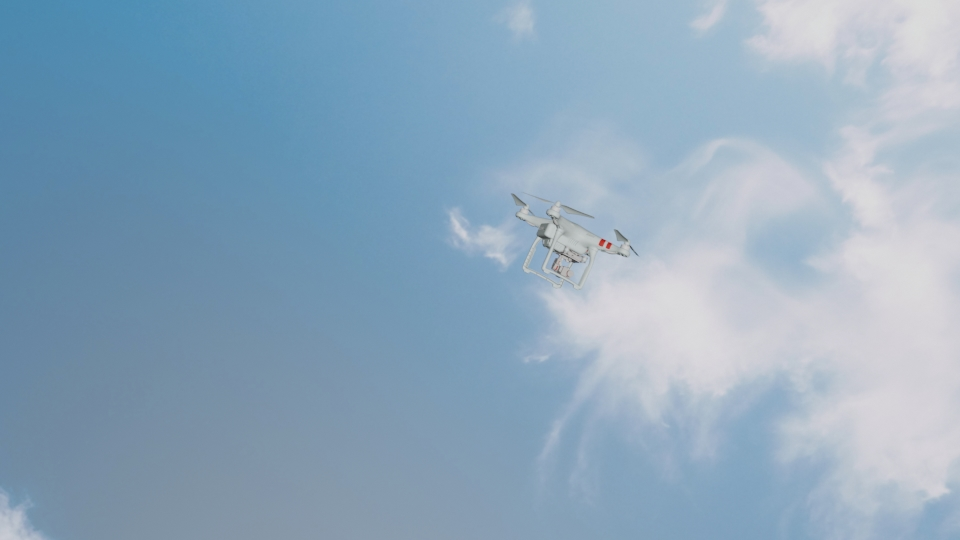drone: (508, 196, 634, 292)
